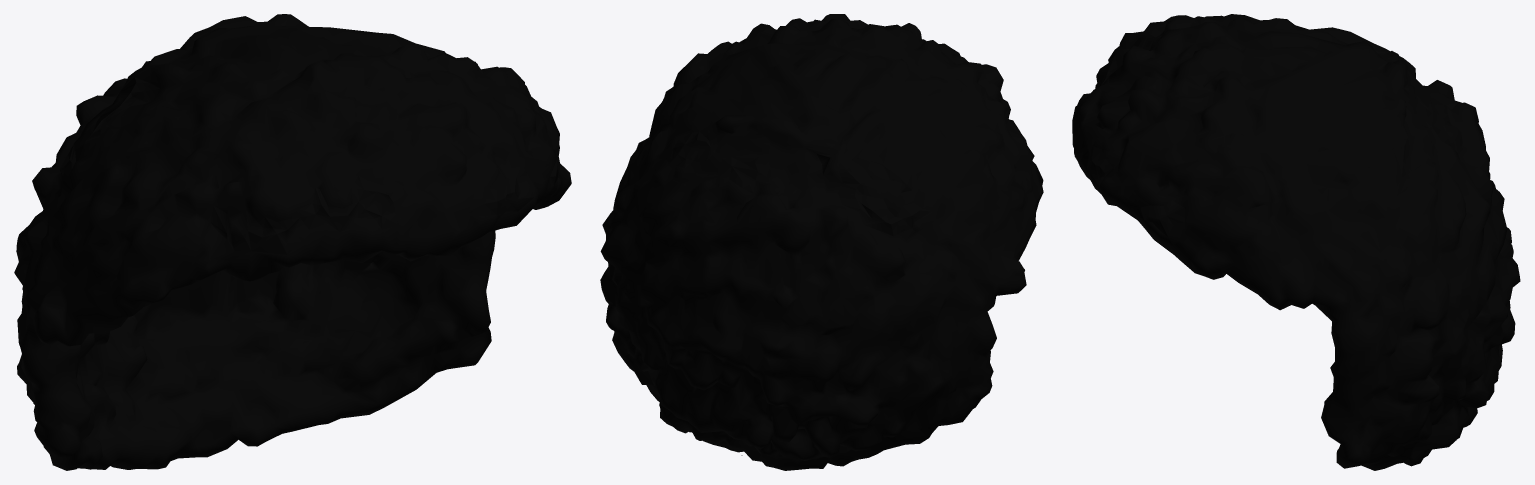
The model's file is messy black ape.glb.
3 renders of one model, left to right at view 1: azimuth 30°, elevation 25°; view 2: azimuth 150°, elevation 25°; view 3: azimuth 270°, elevation 25°, orthographic. The views are drawn at different scales.
Parts seen in each view (by area): view 1: hair_short_messy_black_ape.001; view 2: hair_short_messy_black_ape.001; view 3: hair_short_messy_black_ape.001.
Boxes of the visible parts, left/top/right/bottom form: hair_short_messy_black_ape.001: left=14, top=14, right=571, bottom=470; hair_short_messy_black_ape.001: left=600, top=14, right=1043, bottom=470; hair_short_messy_black_ape.001: left=1072, top=14, right=1520, bottom=470.
Bounding box in the file's own units: 0.349 × 0.3214 × 0.3216.
Materials: 1 (1 with a texture image).
